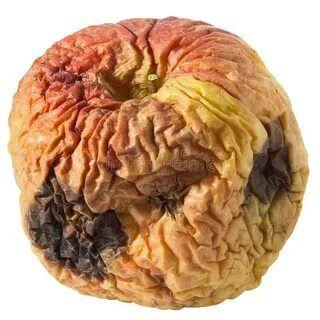Apple: (9, 17, 309, 309)
